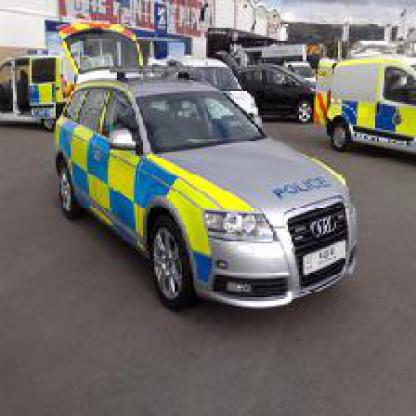emergency: (37, 22, 385, 316), (316, 48, 414, 156)
